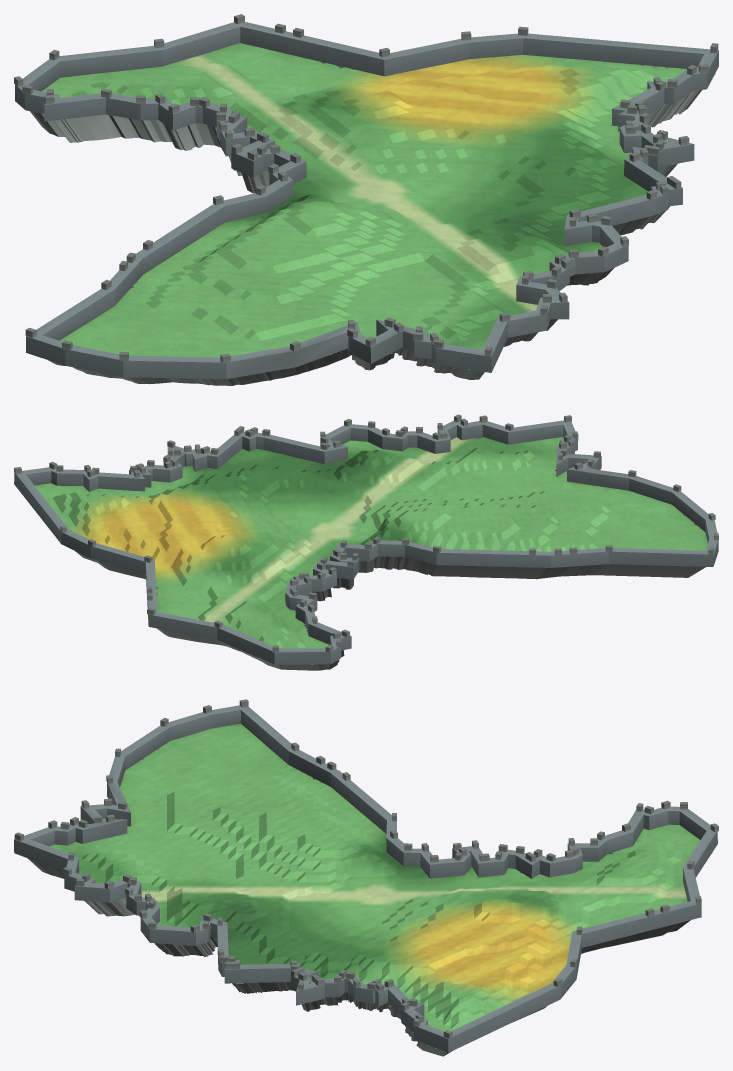
The picture shows the model from 3 angles, top to bottom: view 1: azimuth 30°, elevation 25°; view 2: azimuth 150°, elevation 25°; view 3: azimuth 270°, elevation 25°; orthographic projection. The views are drawn at different scales.
Parts seen in each view (by area): view 1: ground_a6152dbe; view 2: ground_a6152dbe; view 3: ground_a6152dbe.
Boxes of the visible parts, x1=… form: ground_a6152dbe: x1=14, y1=14, x2=718, y2=385; ground_a6152dbe: x1=14, y1=414, x2=718, y2=670; ground_a6152dbe: x1=14, y1=699, x2=718, y2=1056.
Size of the model in its own units: 155 by 7.71 by 138.
Materials: 2 (1 with a texture image).
